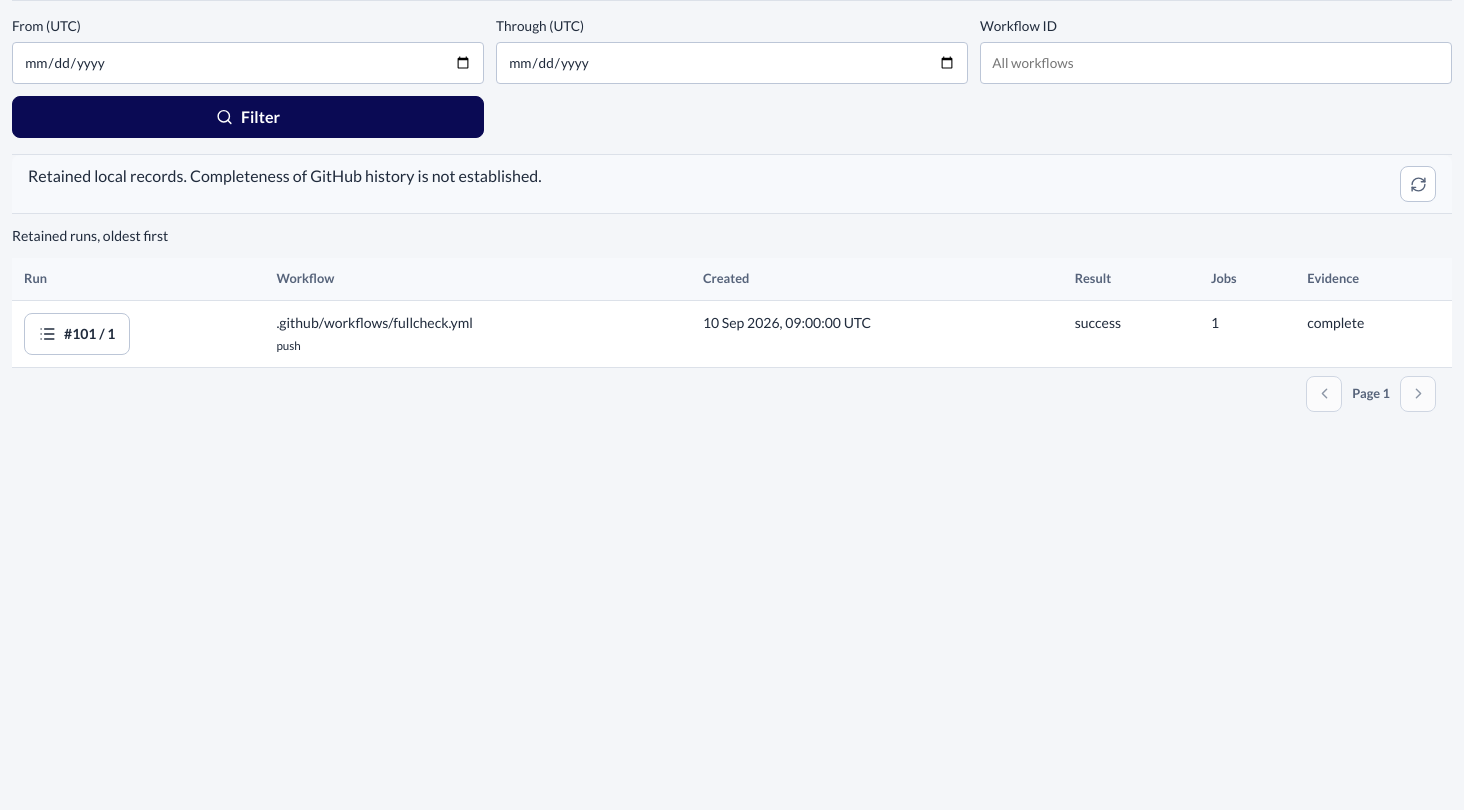
first retention HTTP 403/unavailable remains uncertain
Click the button "#101 / 1" at (77, 334), box [24,313,130,355]
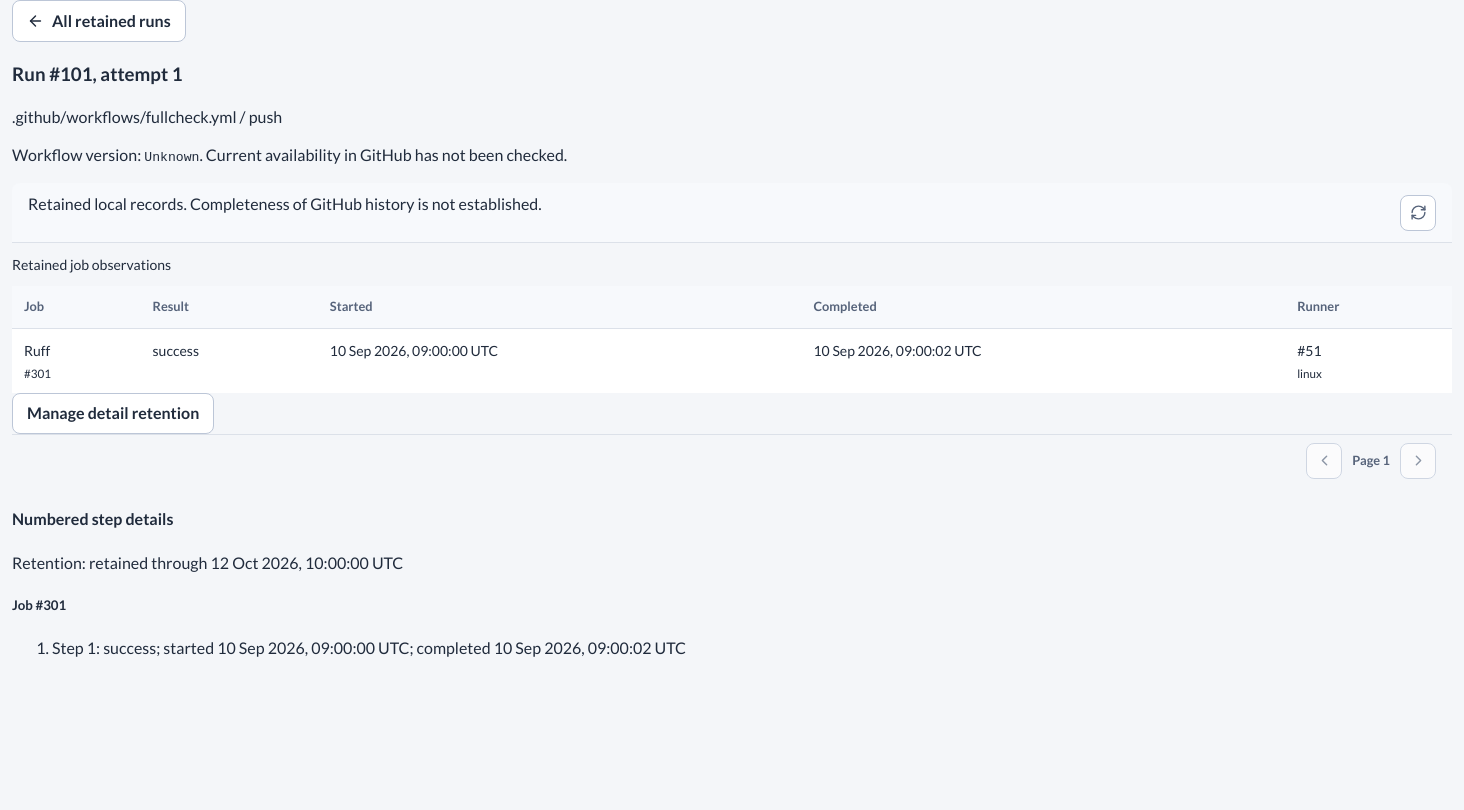
Expected: the list item "Step 1: success" is shown, [52,638,686,657]
Click the button "Manage detail retention" at (113, 413), box [12,393,214,434]
(page scrolled)
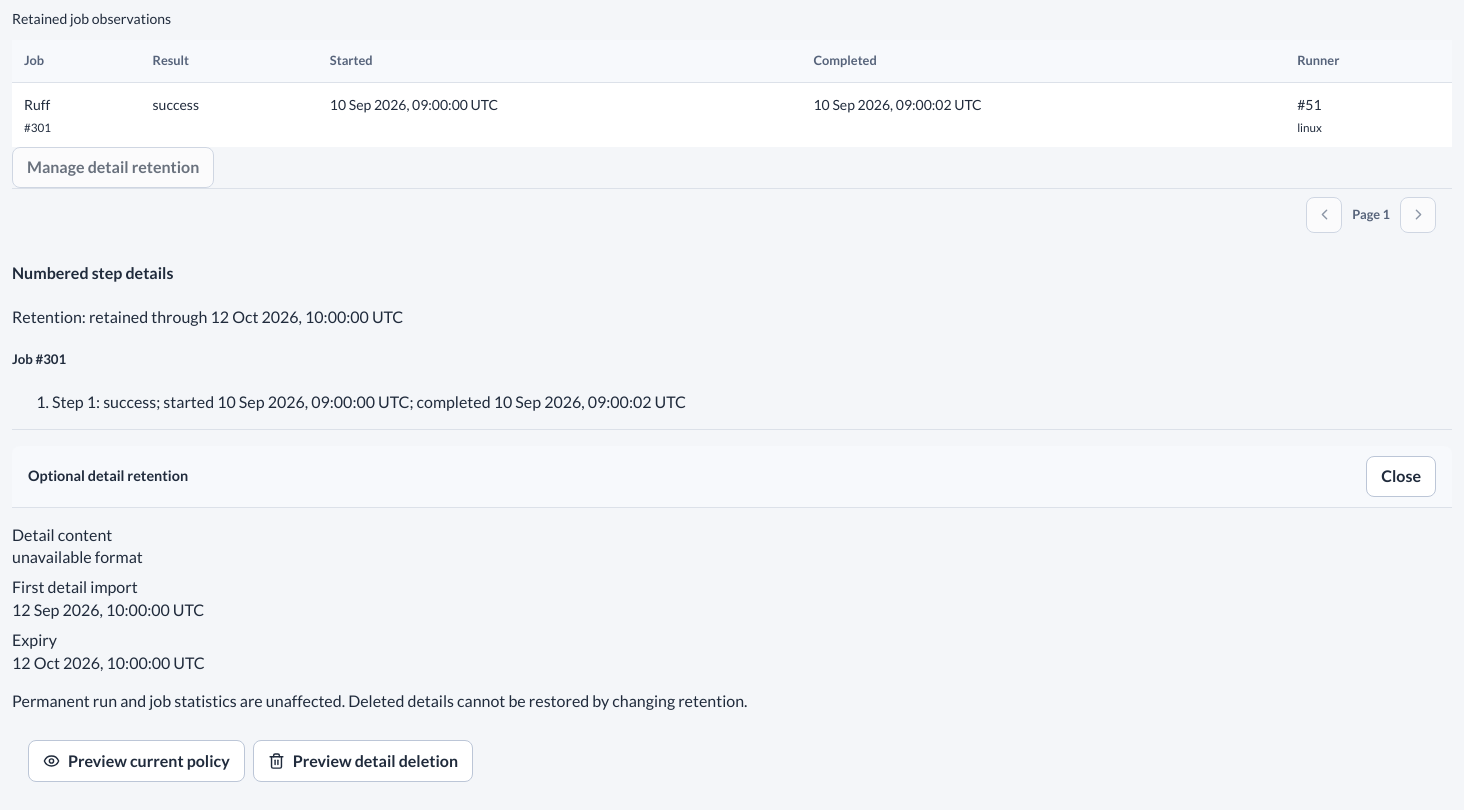
Click the button "Preview detail deletion" at (363, 761), box [253,740,473,782]
(page scrolled)
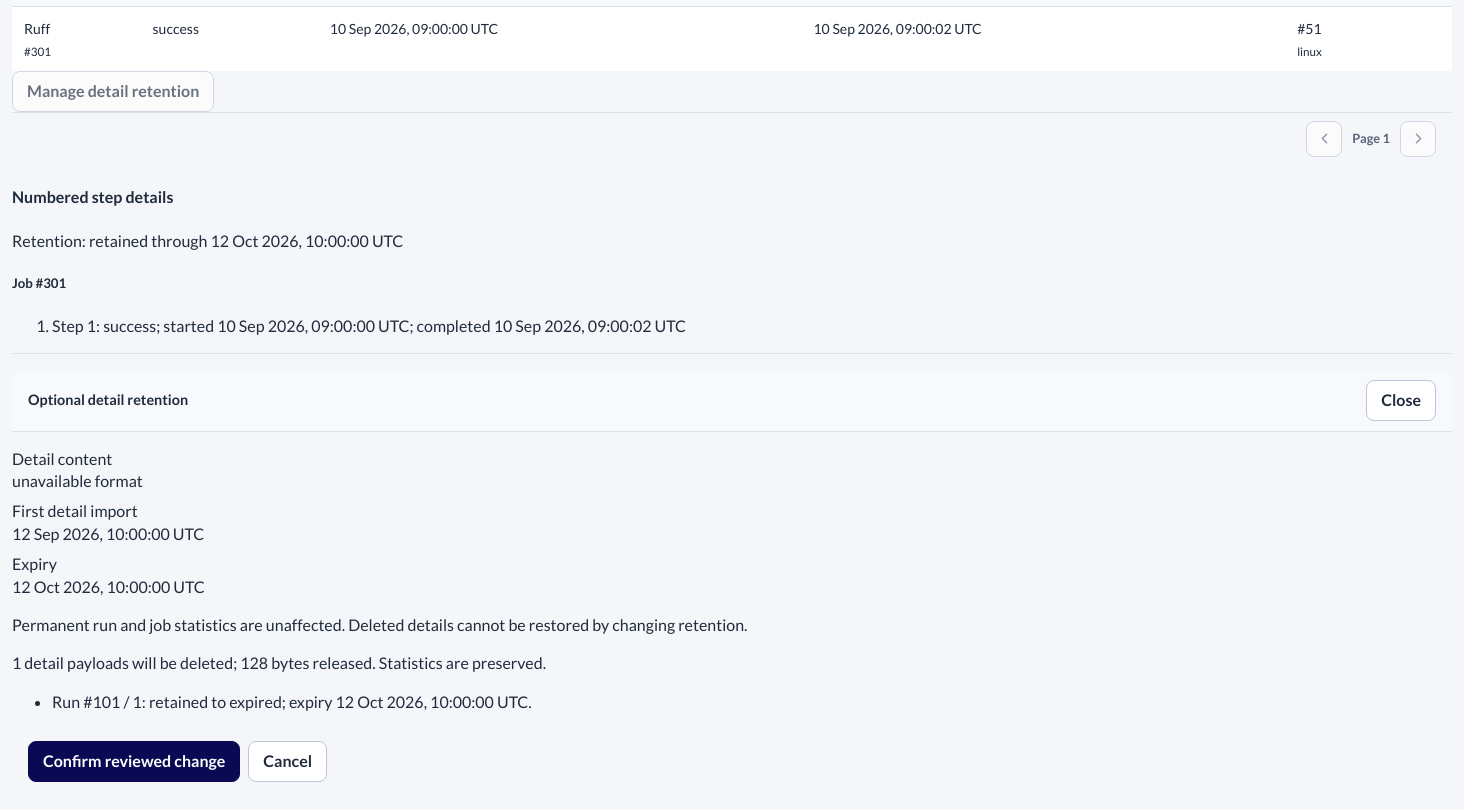
Expected: the button "Confirm reviewed change" is shown
Click the button "Confirm reviewed change" at (134, 761), box [28,741,240,782]
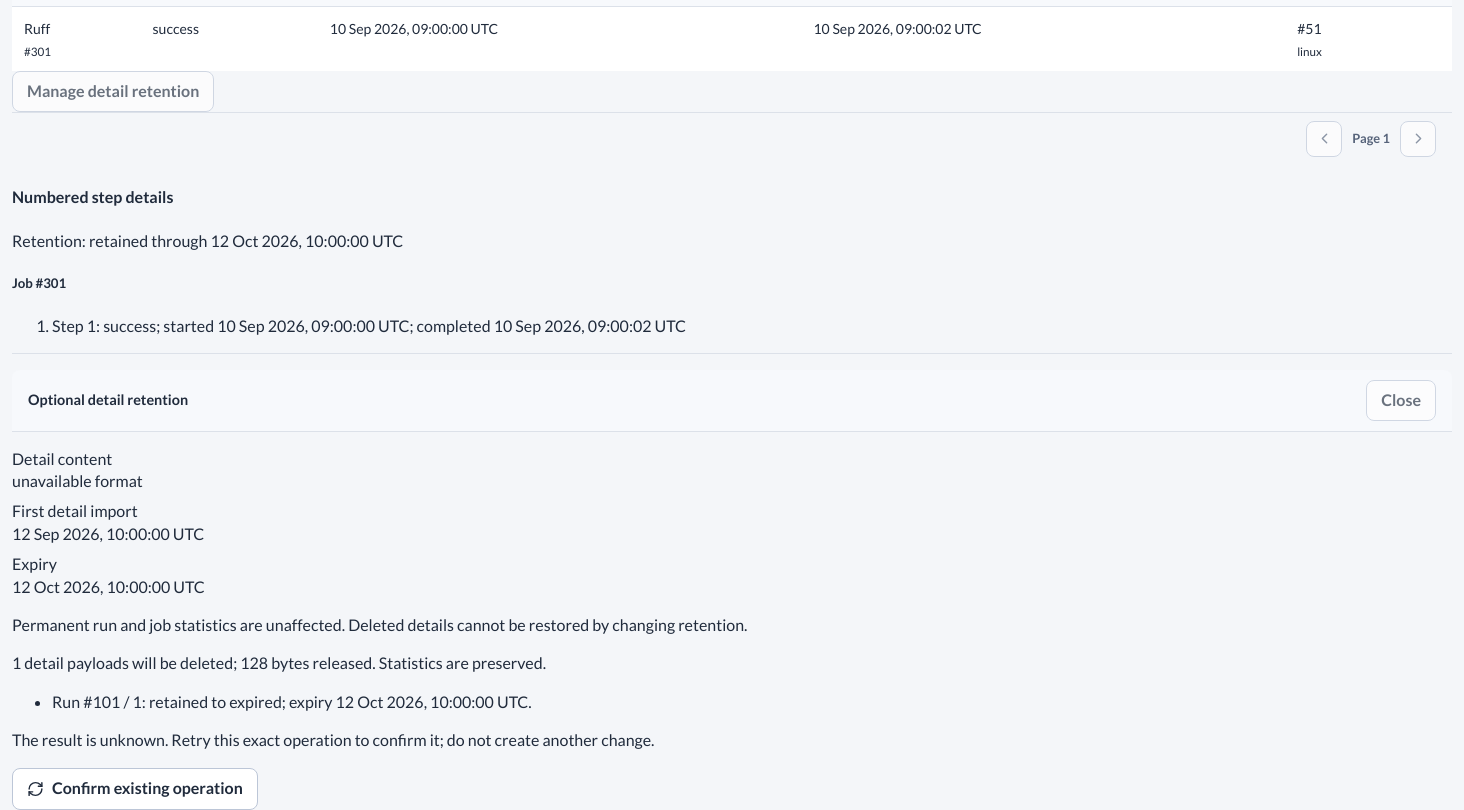
Expected: the text "The result is unknown" is shown, [12,730,654,749]
Expected: the button "Close" is disabled, [1366,380,1436,421]
